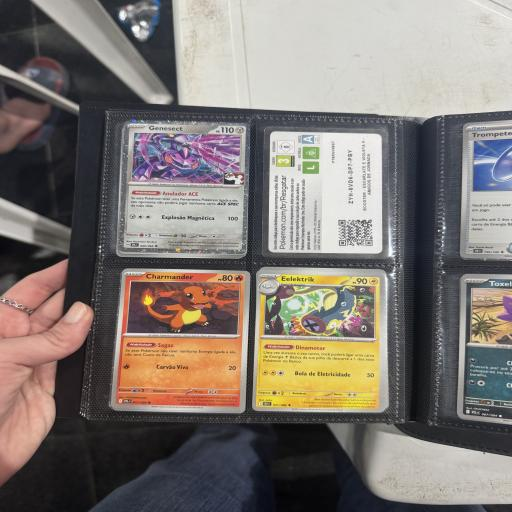card: (110, 268, 251, 413), (252, 270, 388, 412), (117, 116, 252, 259)
